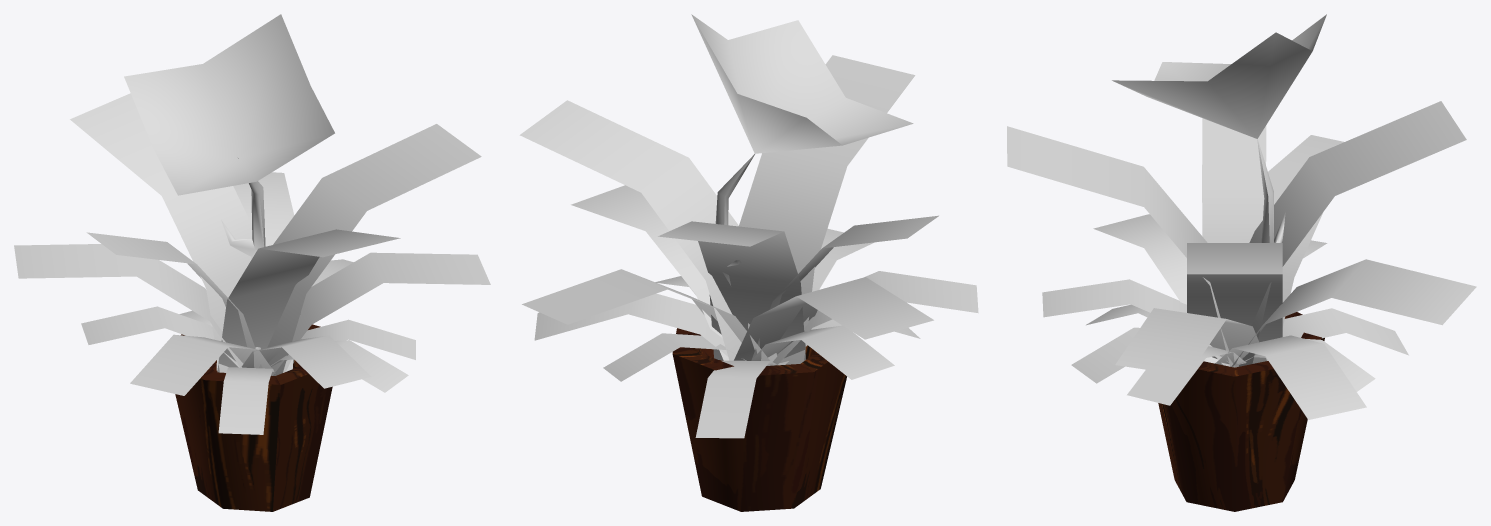
The model's file is SM_PROP_PLANT_pot_v3_01.fbx.
The picture shows the model from 3 angles, left to right: view 1: azimuth 30°, elevation 25°; view 2: azimuth 150°, elevation 25°; view 3: azimuth 270°, elevation 25°; orthographic projection. The views are drawn at different scales.
Parts seen in each view (by area): view 1: SM_PROP_PLANT_pot_v3_01; view 2: SM_PROP_PLANT_pot_v3_01; view 3: SM_PROP_PLANT_pot_v3_01.
Part boxes in pixels (x1,y1,x2,y2): SM_PROP_PLANT_pot_v3_01: (14,14,490,511); SM_PROP_PLANT_pot_v3_01: (519,14,978,511); SM_PROP_PLANT_pot_v3_01: (1007,14,1476,511).
Bounding box in the file's own units: 123 × 130 × 116.
